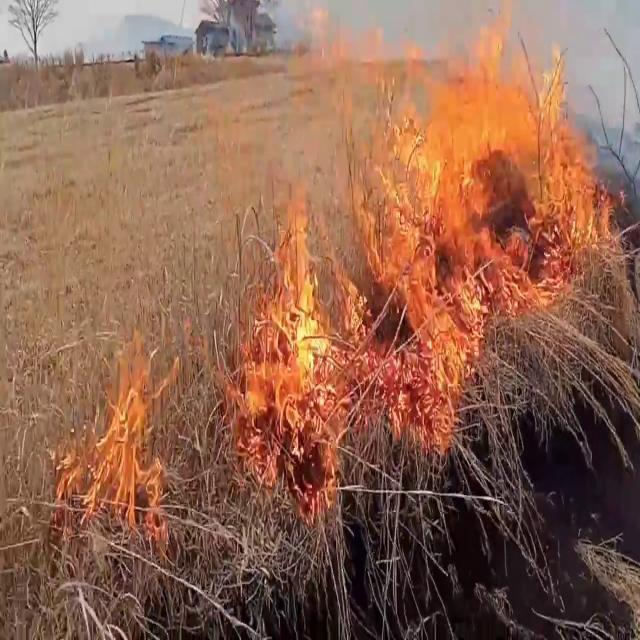Fire: (227, 2, 620, 460), (54, 331, 199, 555)
